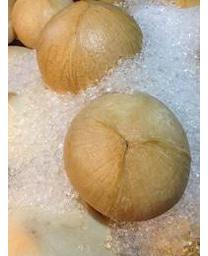coconut: (64, 93, 191, 223), (36, 0, 142, 94), (12, 0, 75, 48)
